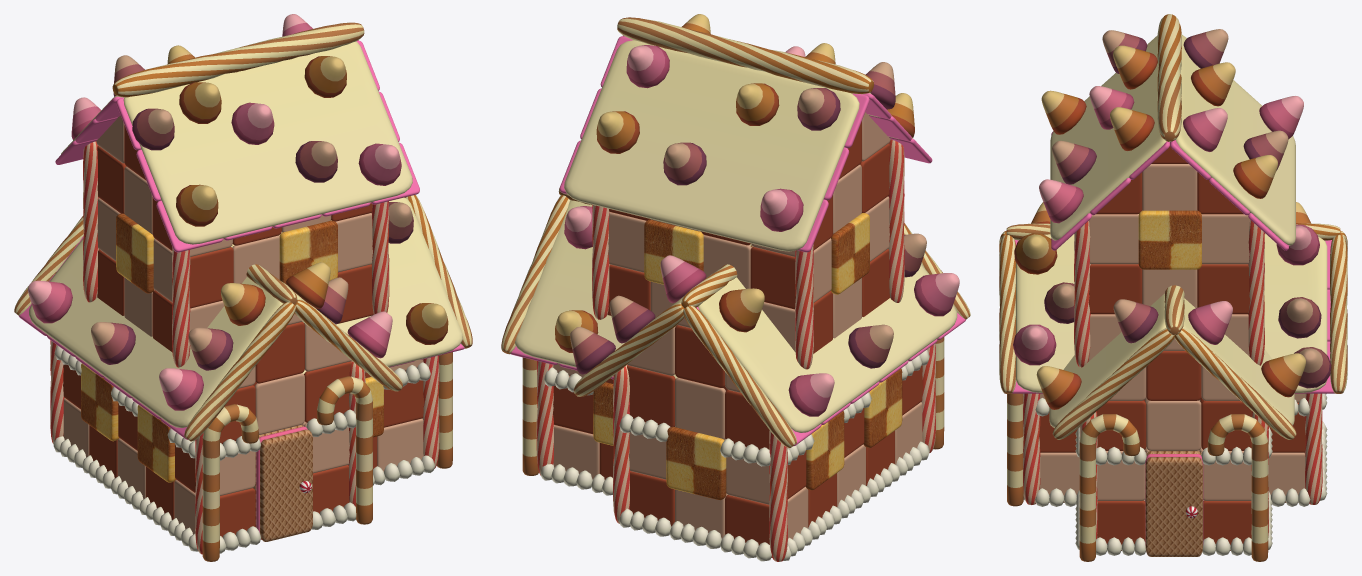
The model's file is cw_house_23.fbx.
3 views of the same model, side by side, from view 1: azimuth 30°, elevation 25°; view 2: azimuth 150°, elevation 25°; view 3: azimuth 270°, elevation 25° (orthographic). The views are drawn at different scales.
Parts seen in each view (by area): view 1: cw_house_23; view 2: cw_house_23; view 3: cw_house_23.
Part boxes in pixels (x1,y1,x2,y2): cw_house_23: [14, 14, 472, 561]; cw_house_23: [501, 14, 970, 561]; cw_house_23: [999, 14, 1347, 561].
Bounding box in the file's own units: 718 × 899 × 682.
